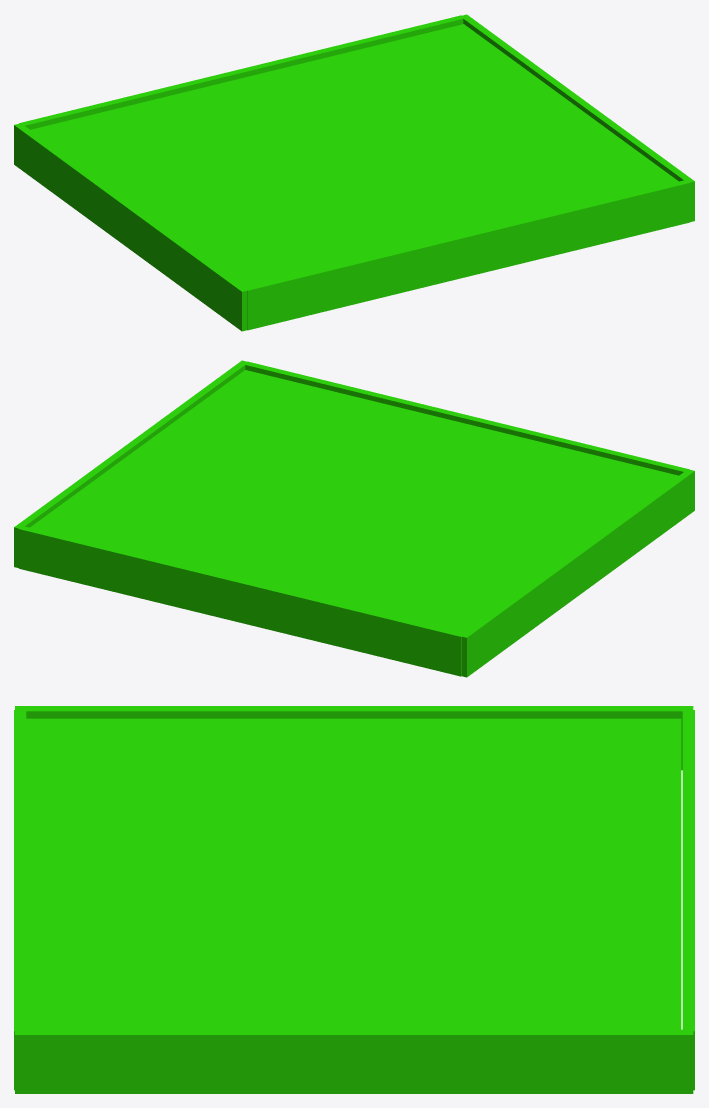
File: Gaz_Station_Top.fbx
3 renders of one model, top to bottom at view 1: azimuth 30°, elevation 25°; view 2: azimuth 150°, elevation 25°; view 3: azimuth 270°, elevation 25°, orthographic. The views are drawn at different scales.
Visible parts, largest first — view 1: Gaz_Station_Top; view 2: Gaz_Station_Top; view 3: Gaz_Station_Top.
Boxes of the visible parts, <box> form: Gaz_Station_Top: <box>14,14,694,331</box>; Gaz_Station_Top: <box>14,360,694,677</box>; Gaz_Station_Top: <box>14,706,694,1093</box>.
Bounding box in the file's own units: 715 × 59.87 × 626.
